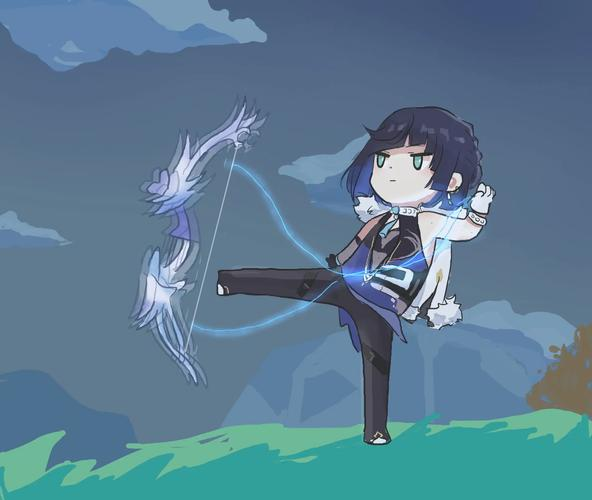夜兰: (216, 106, 497, 446)
